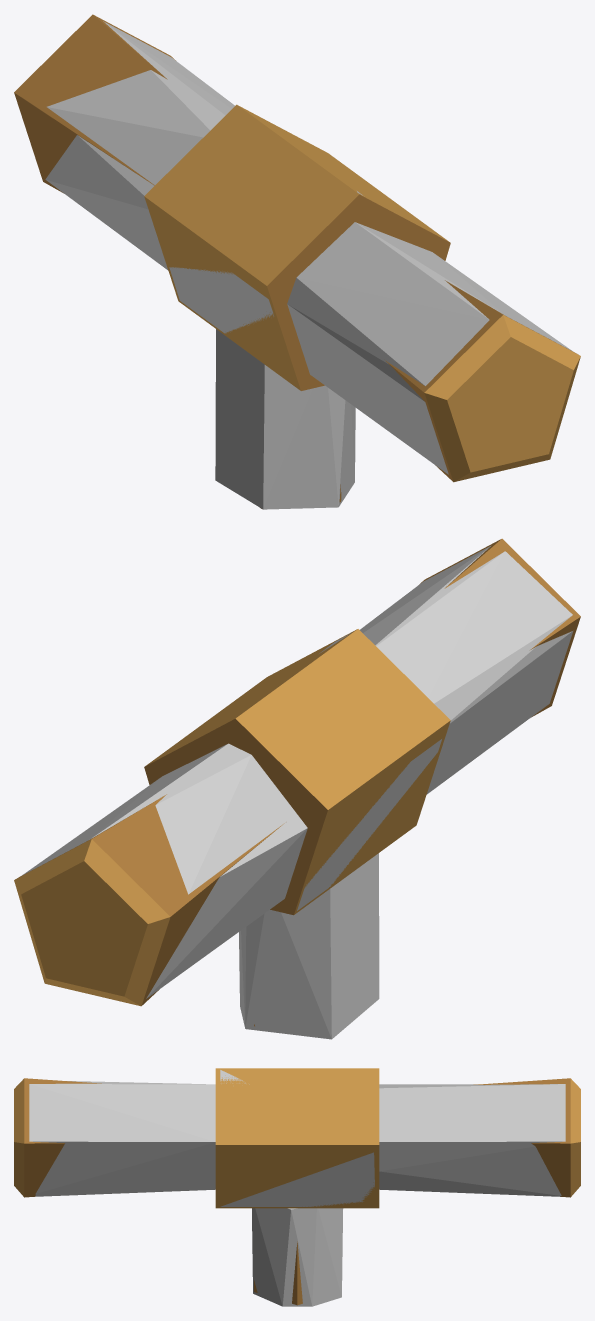
The model's file is SM_Prop_Potion_Tank_01_Tap.fbx.
3 views of the same model, one above another, from view 1: azimuth 30°, elevation 25°; view 2: azimuth 150°, elevation 25°; view 3: azimuth 270°, elevation 25° (orthographic). The views are drawn at different scales.
Parts seen in each view (by area): view 1: SM_Prop_Potion_Tank_01_Tap_ConvexHulls, SM_Prop_Potion_Tank_01_Tap; view 2: SM_Prop_Potion_Tank_01_Tap_ConvexHulls, SM_Prop_Potion_Tank_01_Tap; view 3: SM_Prop_Potion_Tank_01_Tap_ConvexHulls, SM_Prop_Potion_Tank_01_Tap.
Part boxes in pixels (x1,y1,x2,y2): SM_Prop_Potion_Tank_01_Tap_ConvexHulls: [45, 21, 573, 509]; SM_Prop_Potion_Tank_01_Tap: [14, 14, 580, 508]; SM_Prop_Potion_Tank_01_Tap_ConvexHulls: [22, 545, 573, 1039]; SM_Prop_Potion_Tank_01_Tap: [14, 538, 580, 1026]; SM_Prop_Potion_Tank_01_Tap_ConvexHulls: [29, 1070, 565, 1306]; SM_Prop_Potion_Tank_01_Tap: [14, 1068, 580, 1305].
Size of the model in its own units: 2.3 by 9.23 by 4.02.
Materials: 2 (1 with a texture image).
